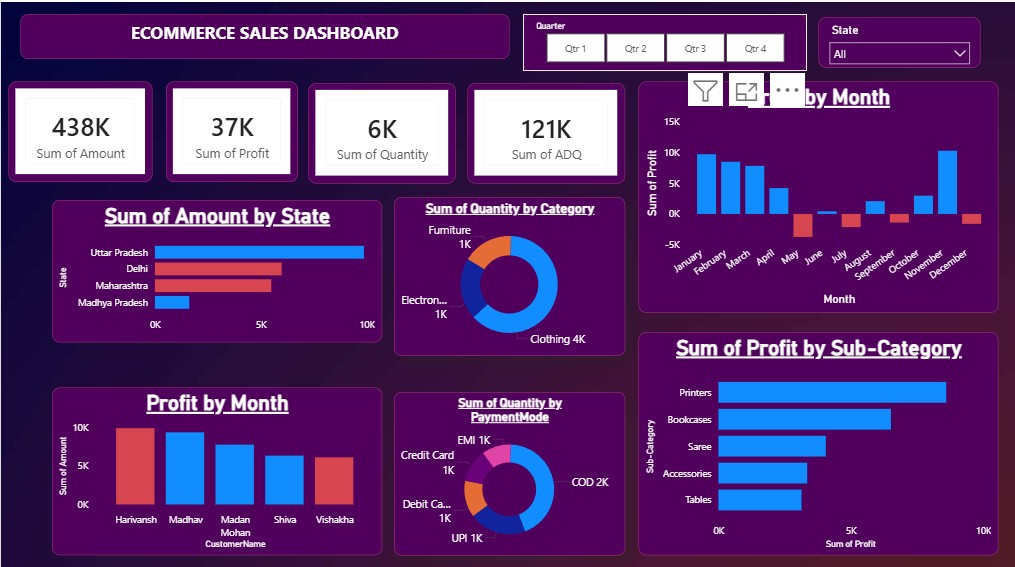

The page's visual inventory and layout, read from the dashboard file:
{"tool":"powerbi","page":{"name":"Page 1","canvas":[1280,720],"ordinal":0},"visuals":[{"type":"textbox","box":[24.6,15.1,616.1,56.7],"z":0},{"type":"columnChart","title":"Profit by Month","fields":{"Category":["Orders.Order Date.Variation.Date Hierarchy.Month"],"Y":["Sum(Details.Profit)"]},"box":[803.2,100.2,453.5,291],"z":1000},{"type":"barChart","fields":{"Category":["Details.Sub-Category"],"Y":["Sum(Details.Profit)"]},"box":[803.2,415.8,453.5,281.6],"z":2000},{"type":"donutChart","fields":{"Category":["Details.PaymentMode"],"Y":["Sum(Details.Quantity)"]},"box":[495.1,491.3,291,206],"z":3000},{"type":"donutChart","fields":{"Category":["Details.Category"],"Y":["Sum(Details.Quantity)"]},"box":[495.1,245.7,291,200.3],"z":4000},{"type":"cardVisual","fields":{"Data":["Sum(Details.Amount)"]},"box":[9.4,100.2,181.4,126.6],"z":5000},{"type":"cardVisual","fields":{"Data":["Sum(Details.Profit)"]},"box":[207.9,100.2,166.3,126.6],"z":6000},{"type":"cardVisual","fields":{"Data":["Sum(Details.Quantity)"]},"box":[387.4,102,185.2,126.6],"z":7000},{"type":"cardVisual","fields":{"Data":["Sum(Details.ADQ)"]},"box":[587.7,102,198.4,126.6],"z":8000},{"type":"barChart","fields":{"Category":["Orders.State"],"Y":["Sum(Details.Amount)"]},"box":[64.3,249.5,415.8,179.5],"z":9000},{"type":"columnChart","title":"Profit by Month","fields":{"Category":["Orders.CustomerName"],"Y":["Sum(Details.Amount)"]},"box":[64.3,485.7,415.8,211.7],"z":10000},{"type":"slicer","fields":{"Values":["Orders.Order Date.Variation.Date Hierarchy.Quarter"]},"box":[657.6,15.1,357.2,71.8],"z":11000},{"type":"slicer","fields":{"Values":["Orders.State"]},"box":[1029.9,18.9,204.1,64.3],"z":12000}]}

Visuals, with their boxes in screenshot pixels (x1, y1, x2, y2), scaled from the page's 1280x720 canvas onto the 1015x567 screenshot:
textbox: bbox(20, 12, 508, 57)
"Profit by Month" columnChart: bbox(637, 79, 997, 308)
barChart - Details.Sub-Category x Sum(Details.Profit): bbox(637, 327, 997, 549)
donutChart - Details.PaymentMode x Sum(Details.Quantity): bbox(393, 387, 623, 549)
donutChart - Details.Category x Sum(Details.Quantity): bbox(393, 193, 623, 351)
cardVisual - Sum(Details.Amount): bbox(7, 79, 151, 179)
cardVisual - Sum(Details.Profit): bbox(165, 79, 297, 179)
cardVisual - Sum(Details.Quantity): bbox(307, 80, 454, 180)
cardVisual - Sum(Details.ADQ): bbox(466, 80, 623, 180)
barChart - Orders.State x Sum(Details.Amount): bbox(51, 196, 381, 338)
"Profit by Month" columnChart: bbox(51, 382, 381, 549)
slicer - Orders.Order Date.Variation.Date Hierarchy.Quarter: bbox(521, 12, 805, 68)
slicer - Orders.State: bbox(817, 15, 979, 66)
